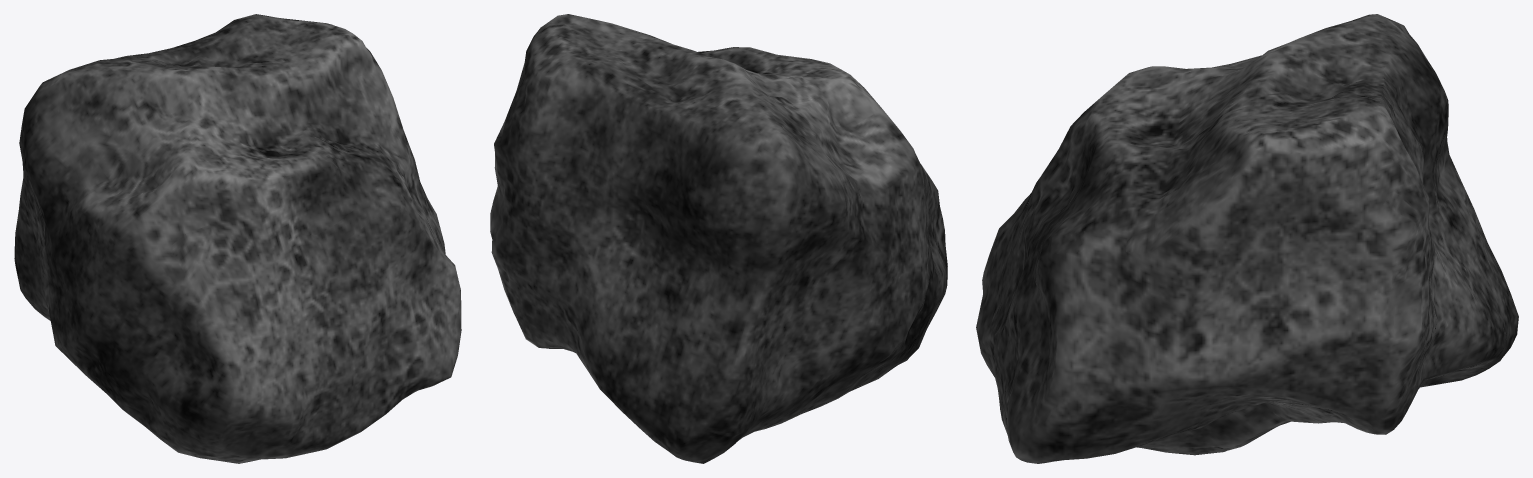
3 views of the same model, side by side, from view 1: azimuth 30°, elevation 25°; view 2: azimuth 150°, elevation 25°; view 3: azimuth 270°, elevation 25° (orthographic). The views are drawn at different scales.
Visible parts, largest first — view 1: Asteroid_no_7_Material #3_0; view 2: Asteroid_no_7_Material #3_0; view 3: Asteroid_no_7_Material #3_0.
Boxes of the visible parts, left/top/right/bottom form: Asteroid_no_7_Material #3_0: left=14, top=14, right=461, bottom=463; Asteroid_no_7_Material #3_0: left=490, top=14, right=947, bottom=463; Asteroid_no_7_Material #3_0: left=976, top=14, right=1518, bottom=463.
Size of the model in its own units: 7.35 by 6.86 by 8.26.
1 material, 1 textured.
